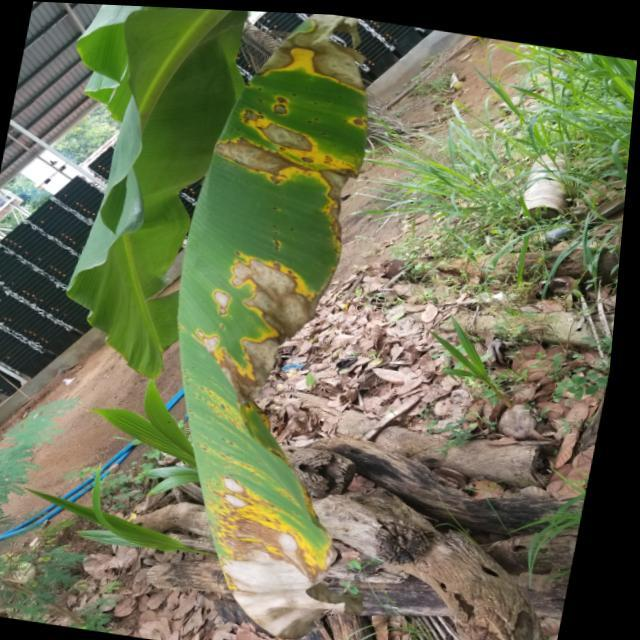Early_rust: (162, 33, 398, 602)
